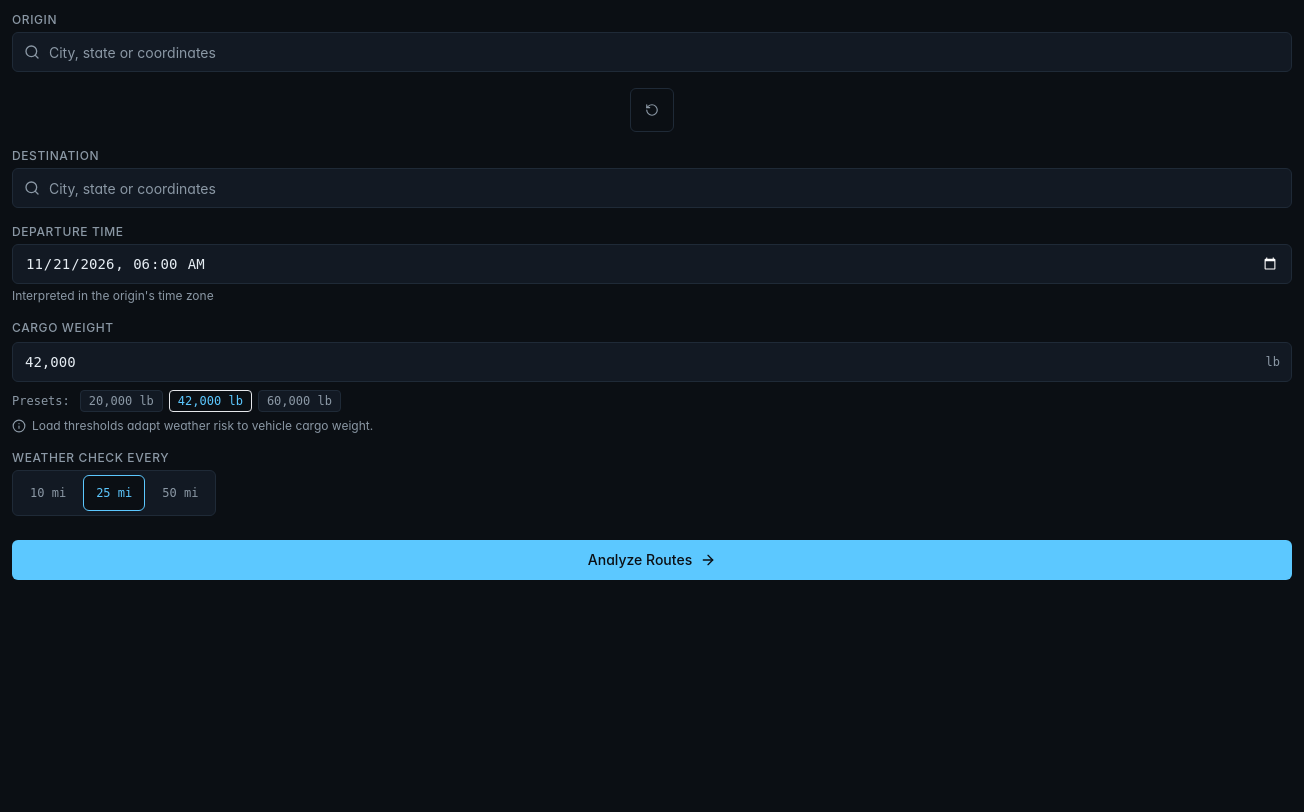
PlannerForm › updates load weight when preset chips are clicked
This screenshot has width=1304, height=812.
What coordinates should you click on to do the following:
click the button "60,000 lb"
I would click on:
 (299, 401)
Its box is [258, 390, 341, 412].
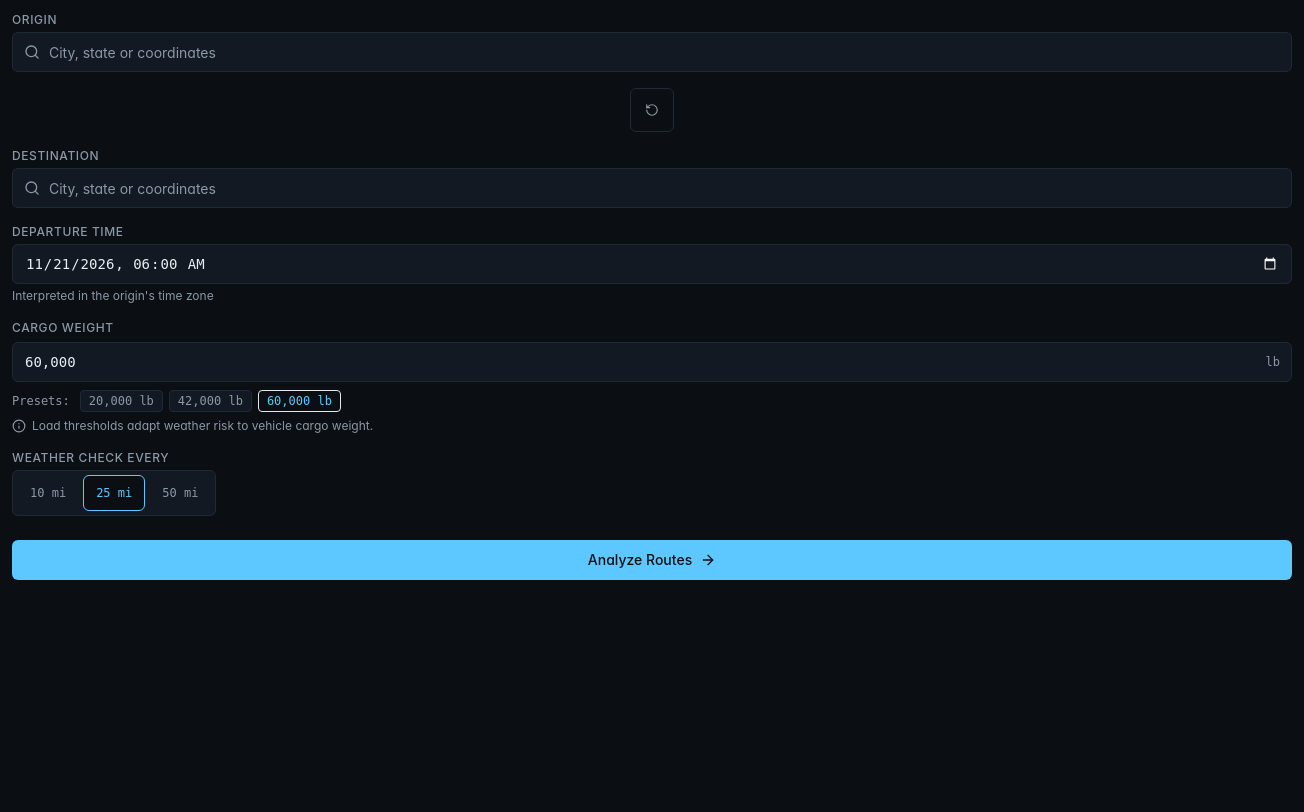
Check: the field labelled "Cargo Weight" holds "60,000", box [12, 342, 1292, 382]
